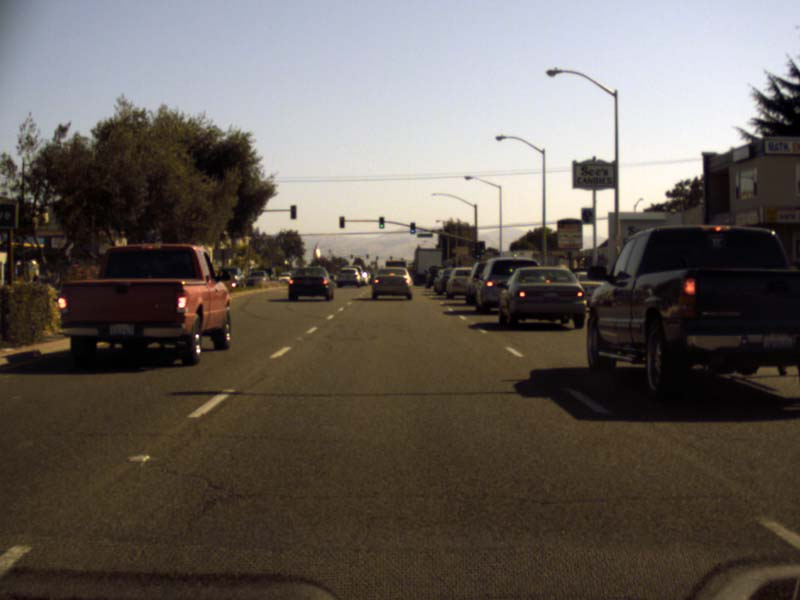Green: (408, 219, 416, 236), (377, 215, 386, 230)
